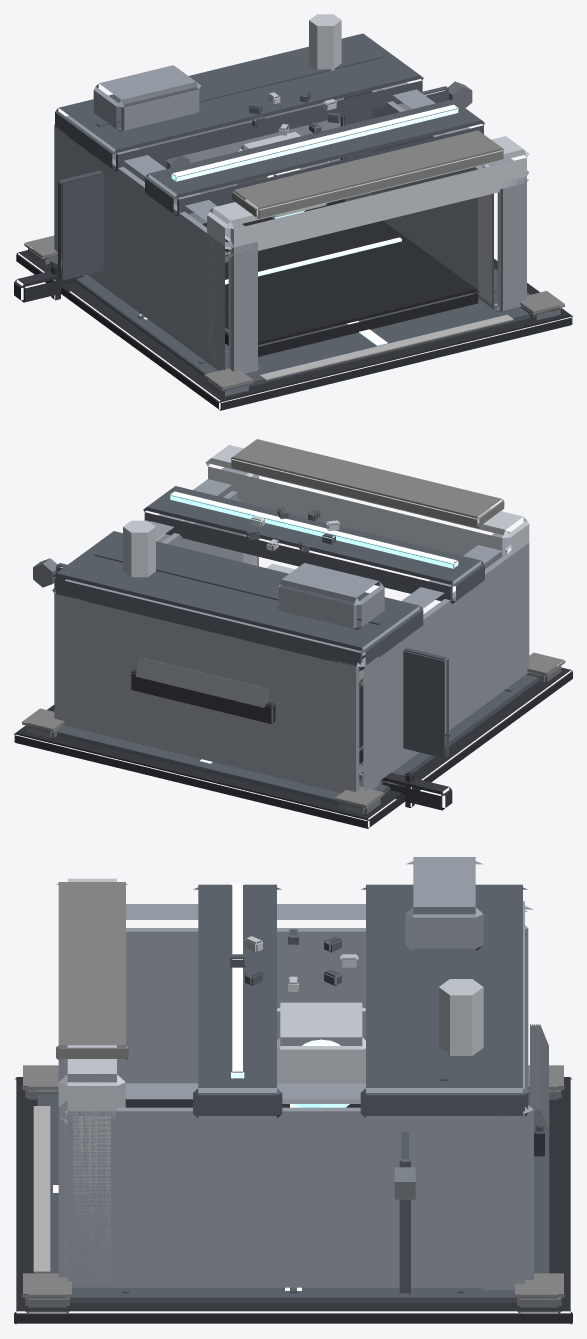
File: botlab.glb
3 views of the same model, one above another, from view 1: azimuth 30°, elevation 25°; view 2: azimuth 150°, elevation 25°; view 3: azimuth 270°, elevation 25° (orthographic). The views are drawn at different scales.
Visible parts, largest first — view 1: body; view 2: body; view 3: body.
Boxes of the visible parts, x1,y1,x2,y2 form: body: [14, 14, 572, 410]; body: [14, 439, 572, 828]; body: [14, 857, 572, 1324].
Size of the model in its own units: 117 by 55.2 by 96.
